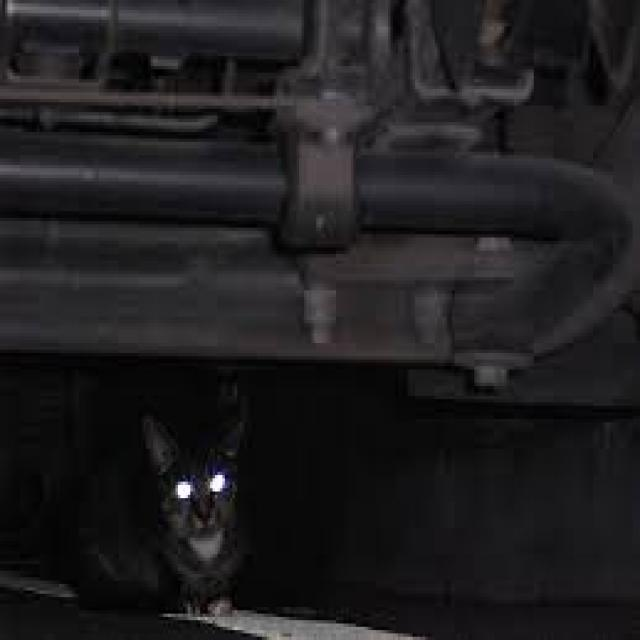cat: (23, 370, 306, 628)
